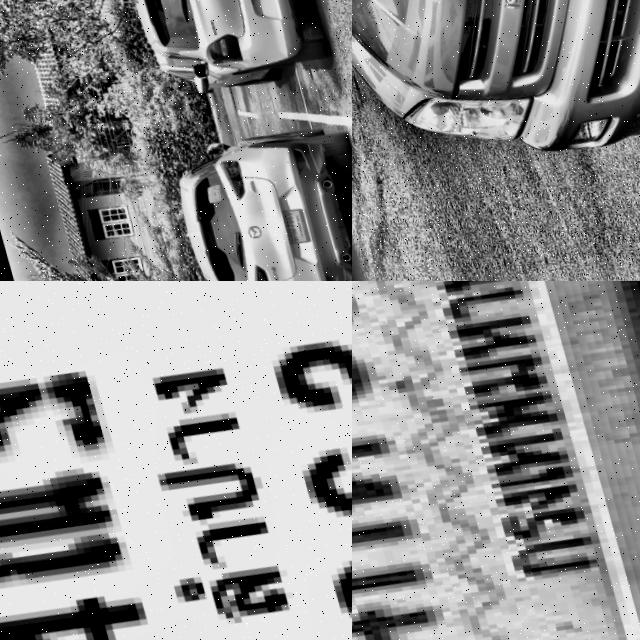license-plate: (0, 281, 352, 640), (352, 281, 640, 640), (275, 199, 305, 238)
